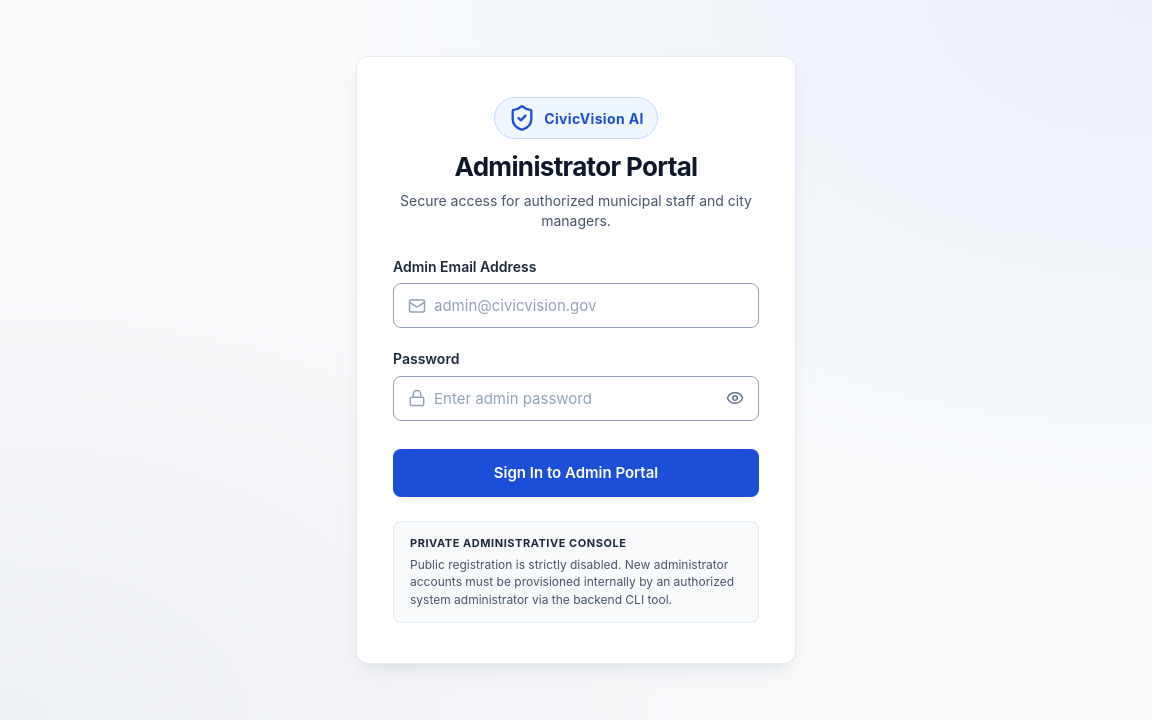
it: Admin Frontend Application Tests › 2. Form validates empty and malformed inputs prior to submission
The width and height of the screenshot is (1152, 720).
Click the button with test id "login-submit-button": (576, 473) [393,448,759,497]
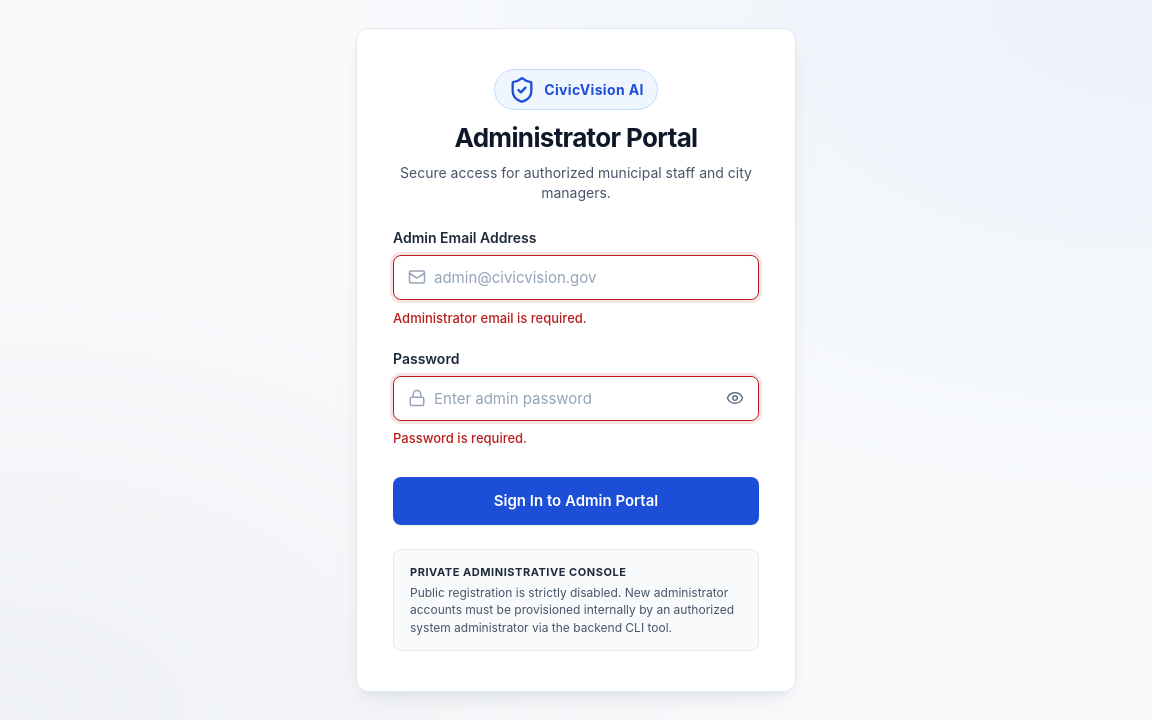
Result: the text "Administrator email is required." is shown at [393,310,587,326]
Result: the text "Password is required." is shown at [393,430,527,446]
